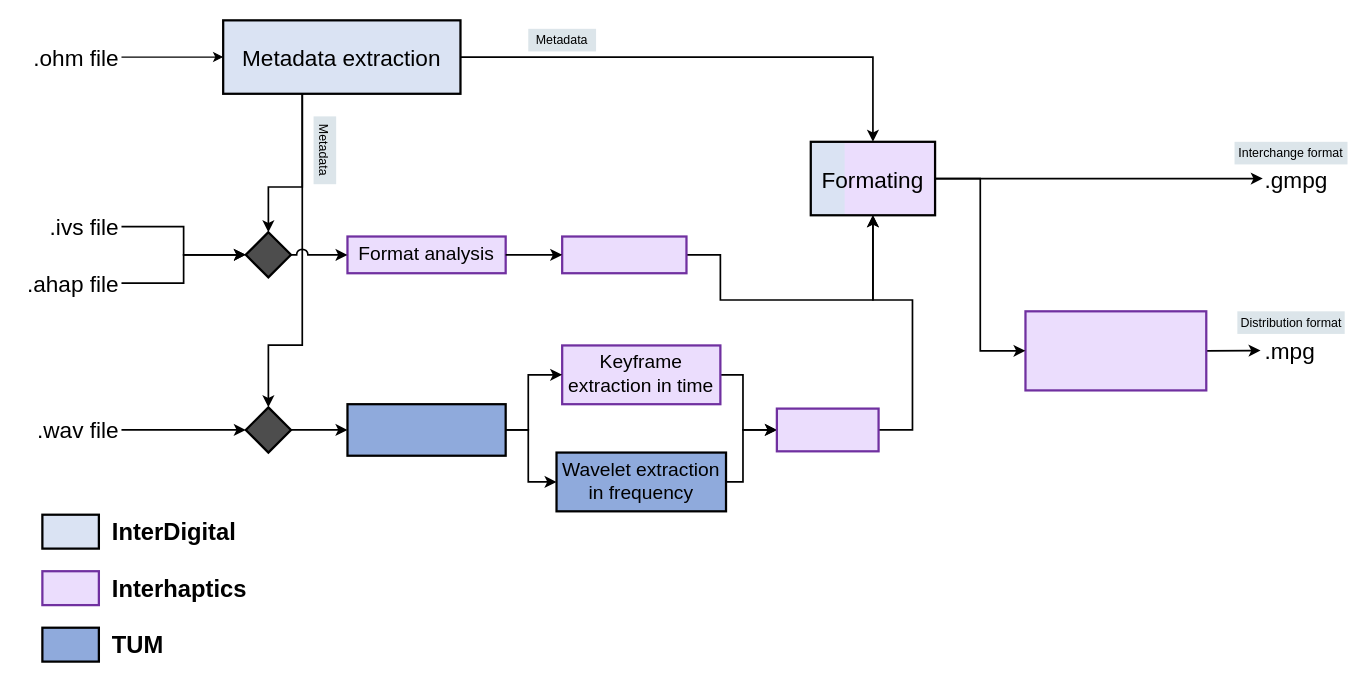
Some shapes in this 1366 by 683 pixel diagram are drawn without their labels. Here are the shapes that lost their labels. From the top down, the box of each, then its label:
(560, 235, 687, 274): Transcoding
(1024, 310, 1207, 391): Binary compression
(346, 403, 506, 456): Frequency bands decomposition
(775, 407, 879, 452): Merging
